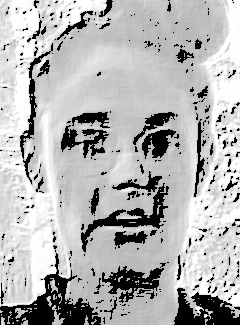nose_M_C: (108, 147, 149, 204)
